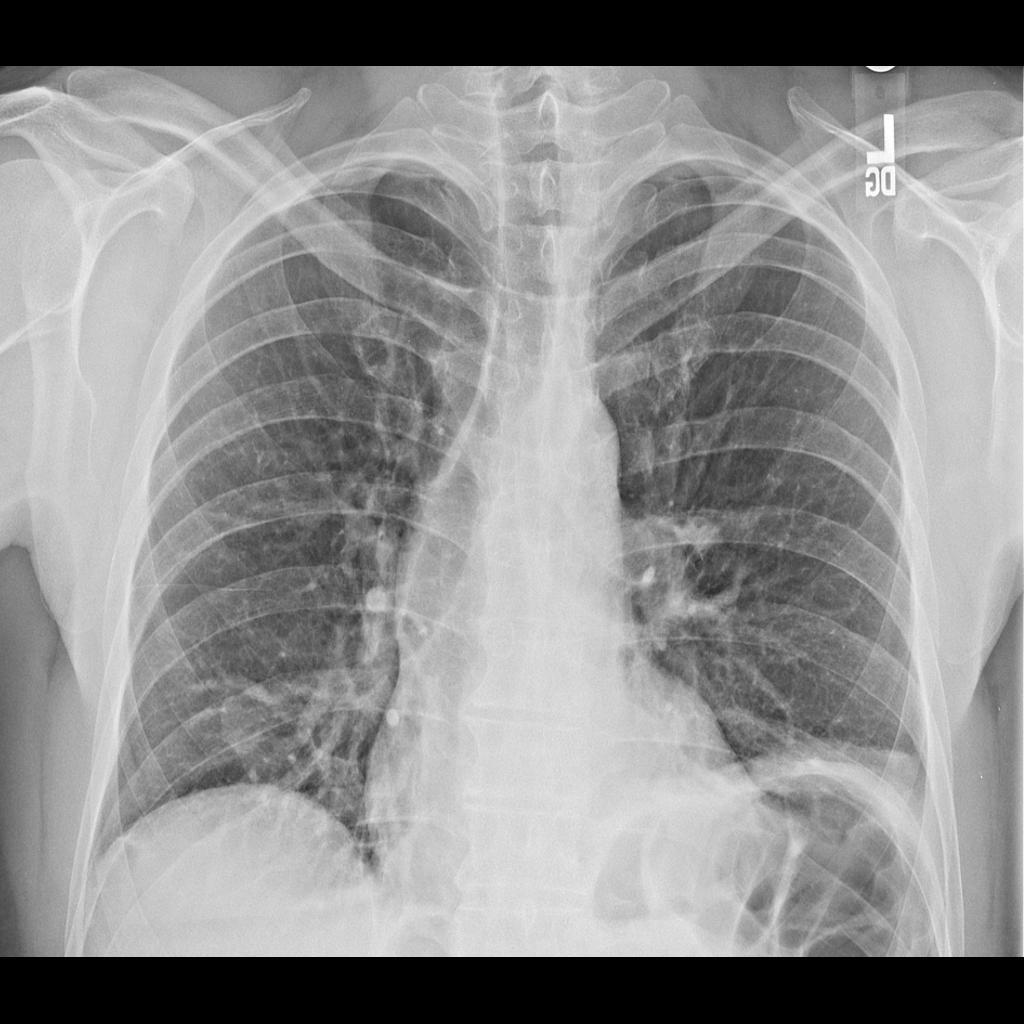Nodule: (214, 692, 278, 768)
